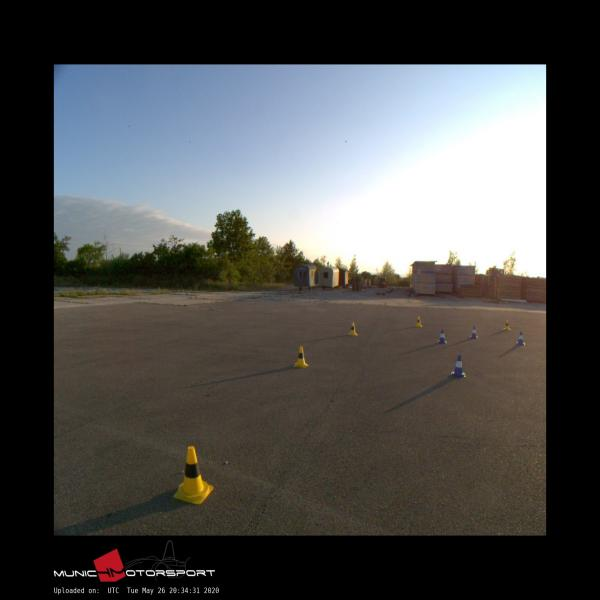blue_cone: (451, 354, 465, 376), (436, 329, 447, 343), (517, 331, 525, 345), (470, 325, 478, 338)
yellow_cone: (174, 446, 214, 504), (293, 346, 307, 366), (348, 322, 357, 335), (415, 316, 422, 326), (503, 320, 510, 330)
